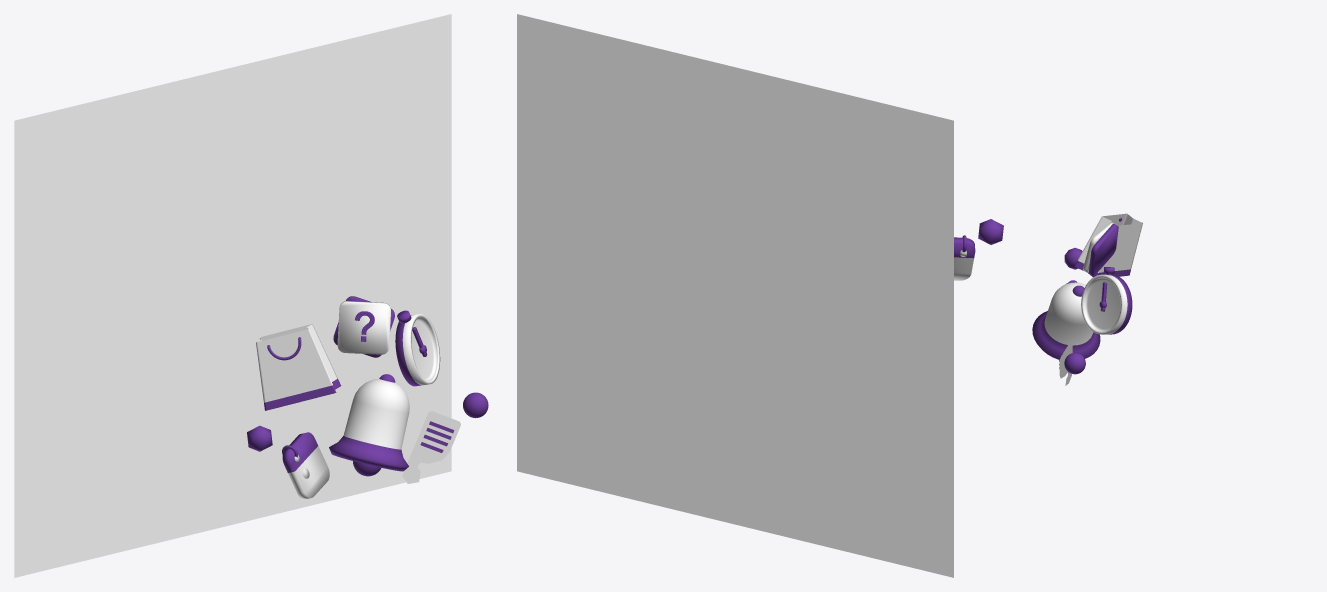
3 views of the same model, side by side, from view 1: azimuth 30°, elevation 25°; view 2: azimuth 150°, elevation 25°; view 3: azimuth 270°, elevation 25° (orthographic). The views are drawn at different scales.
Visible parts, largest first — view 1: Plane, 柱体.008, 平面.002, 立方体.009, 柱体.012, 立方体.001, 平面.001; view 2: Plane, 立方体.001; view 3: 柱体.008, 柱体.012, 平面.002, 立方体.010, Sphere.
Boxes of the visible parts, <box> form: Plane: <box>14,14,451,577</box>; 柱体.008: <box>329,379,409,471</box>; 平面.002: <box>256,324,340,410</box>; 立方体.009: <box>337,301,390,354</box>; 柱体.012: <box>395,313,440,386</box>; 立方体.001: <box>282,432,329,499</box>; 平面.001: <box>402,411,460,483</box>; Plane: <box>517,14,953,577</box>; 立方体.001: <box>954,237,975,280</box>; 柱体.008: <box>1032,282,1100,359</box>; 柱体.012: <box>1081,274,1132,334</box>; 平面.002: <box>1074,213,1142,277</box>; 立方体.010: <box>1088,224,1118,275</box>; Sphere: <box>1064,352,1085,374</box>.
Bounding box in the file's own units: 7.48 × 7.48 × 4.94.
